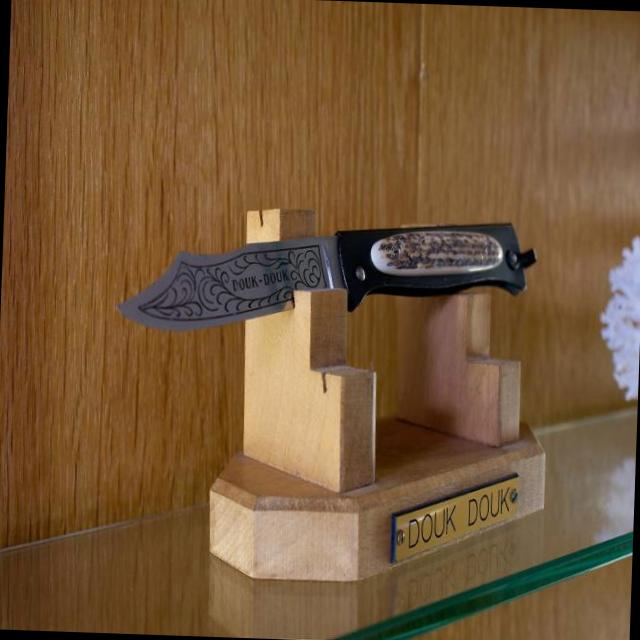Knife: (118, 223, 534, 330)
